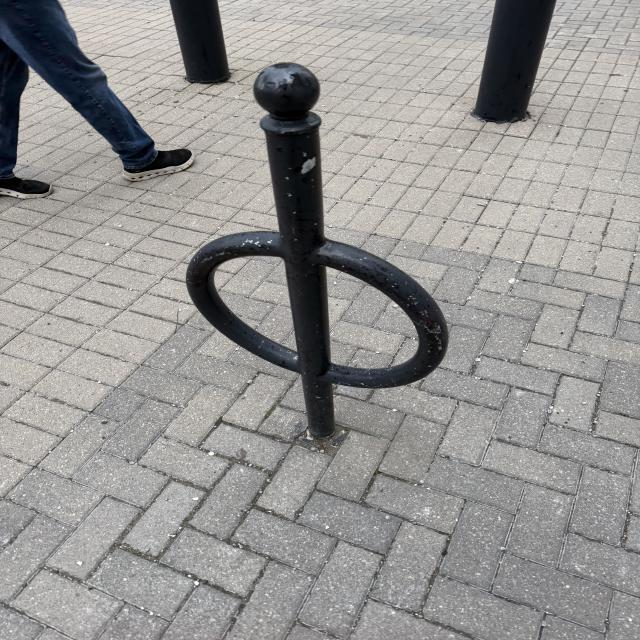Bicycle Rack: (184, 62, 456, 441)
